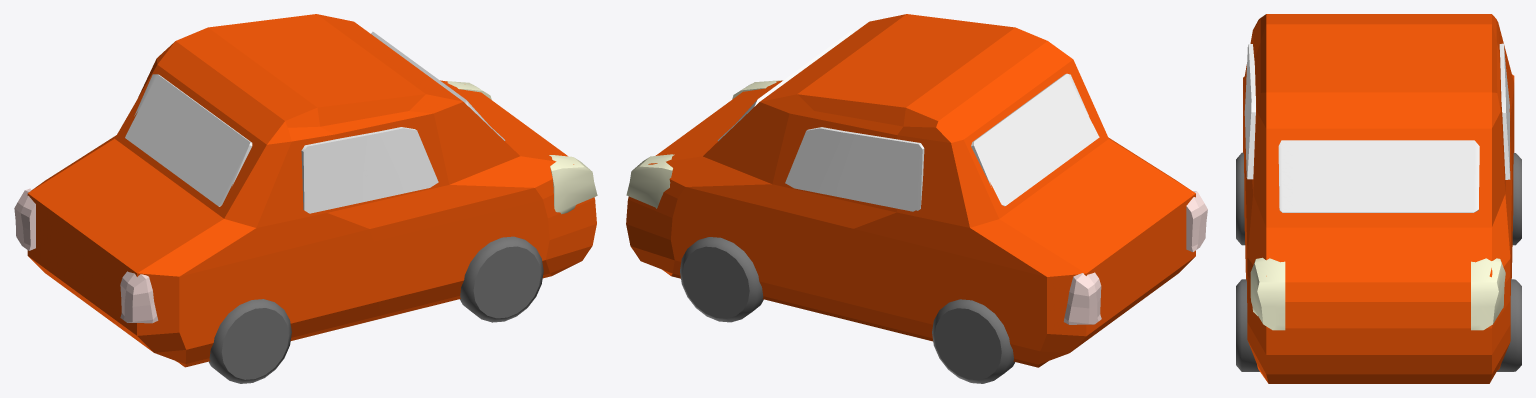
File: CarroRojo.fbx
3 renders of one model, left to right at view 1: azimuth 30°, elevation 25°; view 2: azimuth 150°, elevation 25°; view 3: azimuth 270°, elevation 25°, orthographic. The views are drawn at different scales.
Visible parts, largest first — view 1: pCube1, pCube10, pCube8, pCylinder1, pCylinder2, pCube11, pCube9, pCube6; view 2: pCube1, pCube10, pCube12, pCylinder3, pCylinder4, pCube11, pCube9, pCube6; view 3: pCube1, pCube6, pCube9, pCube8, pCylinder1, pCylinder3, pCube12, pCylinder4, pCylinder2.
Part boxes in pixels (bbox=[...]): pCube1: bbox=[27, 14, 596, 367]; pCube10: bbox=[125, 74, 252, 206]; pCube8: bbox=[301, 127, 438, 213]; pCylinder1: bbox=[460, 236, 543, 322]; pCylinder2: bbox=[209, 299, 291, 383]; pCube11: bbox=[14, 188, 158, 323]; pCube9: bbox=[445, 81, 597, 214]; pCube6: bbox=[371, 31, 505, 140]; pCube1: bbox=[626, 14, 1195, 367]; pCube10: bbox=[971, 73, 1099, 206]; pCube12: bbox=[785, 127, 924, 211]; pCylinder3: bbox=[680, 237, 763, 322]; pCylinder4: bbox=[932, 299, 1015, 383]; pCube11: bbox=[1063, 191, 1207, 324]; pCube9: bbox=[626, 80, 781, 208]; pCube6: bbox=[717, 31, 853, 141]; pCube1: bbox=[1243, 14, 1514, 383]; pCube6: bbox=[1278, 140, 1479, 212]; pCube9: bbox=[1250, 257, 1505, 330]; pCube8: bbox=[1244, 44, 1255, 179]; pCylinder1: bbox=[1236, 279, 1259, 371]; pCylinder3: bbox=[1496, 279, 1521, 371]; pCube12: bbox=[1499, 43, 1510, 179]; pCylinder4: bbox=[1512, 153, 1521, 245]; pCylinder2: bbox=[1236, 152, 1244, 245].
Size of the model in its own units: 21.67 by 10.94 by 11.09.
